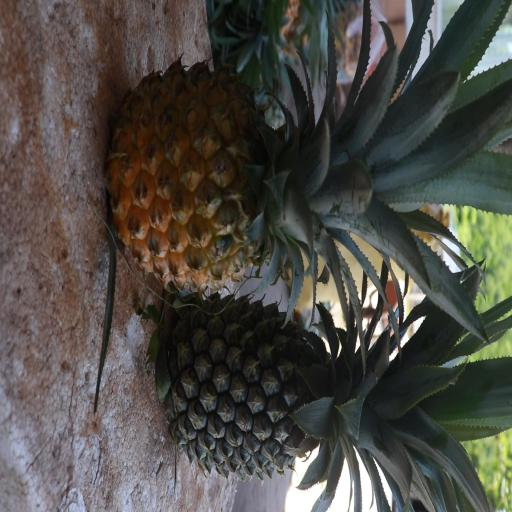Pineapple - v8 v1: (118, 78, 440, 288)
